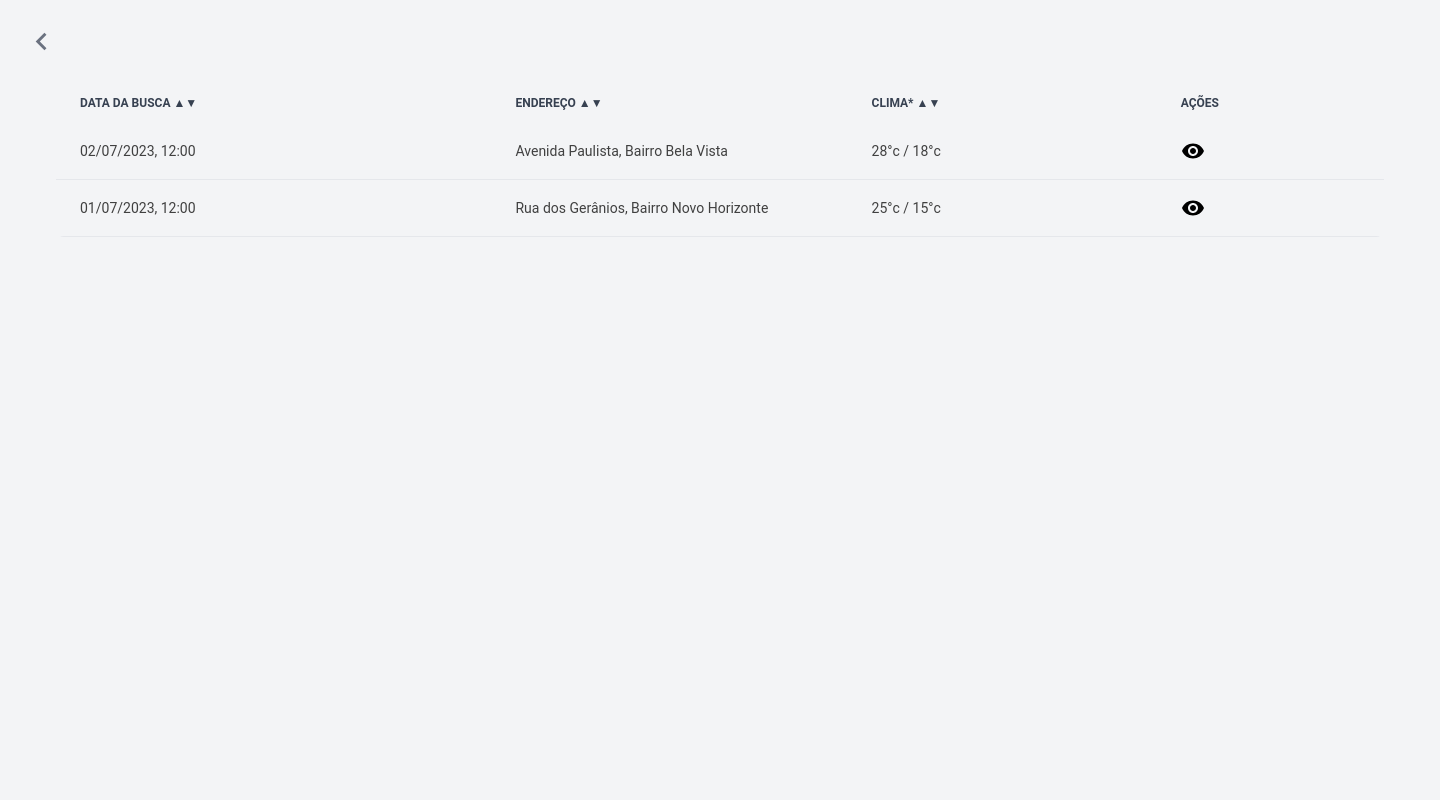
Test: Historic Page › should close modal when clicking close button
Click the button named "View" in the row of "02/07/2023, 12:00" at (1193, 151), box [1181, 139, 1205, 163]
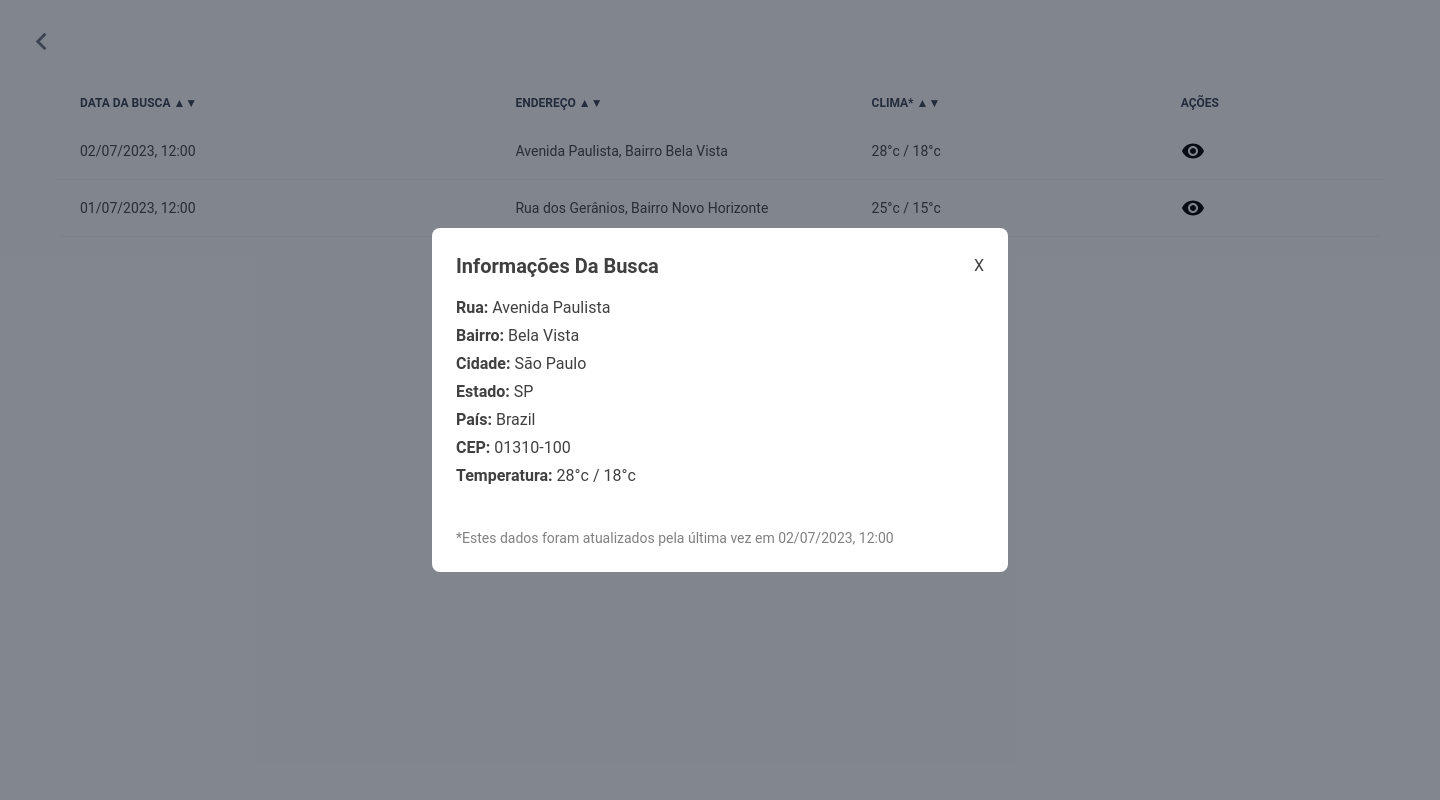
Expected: the heading "Informações Da Busca" is shown, [456, 252, 659, 280]
Click the button with id "close-modal-button" at (979, 266), box [974, 254, 984, 278]
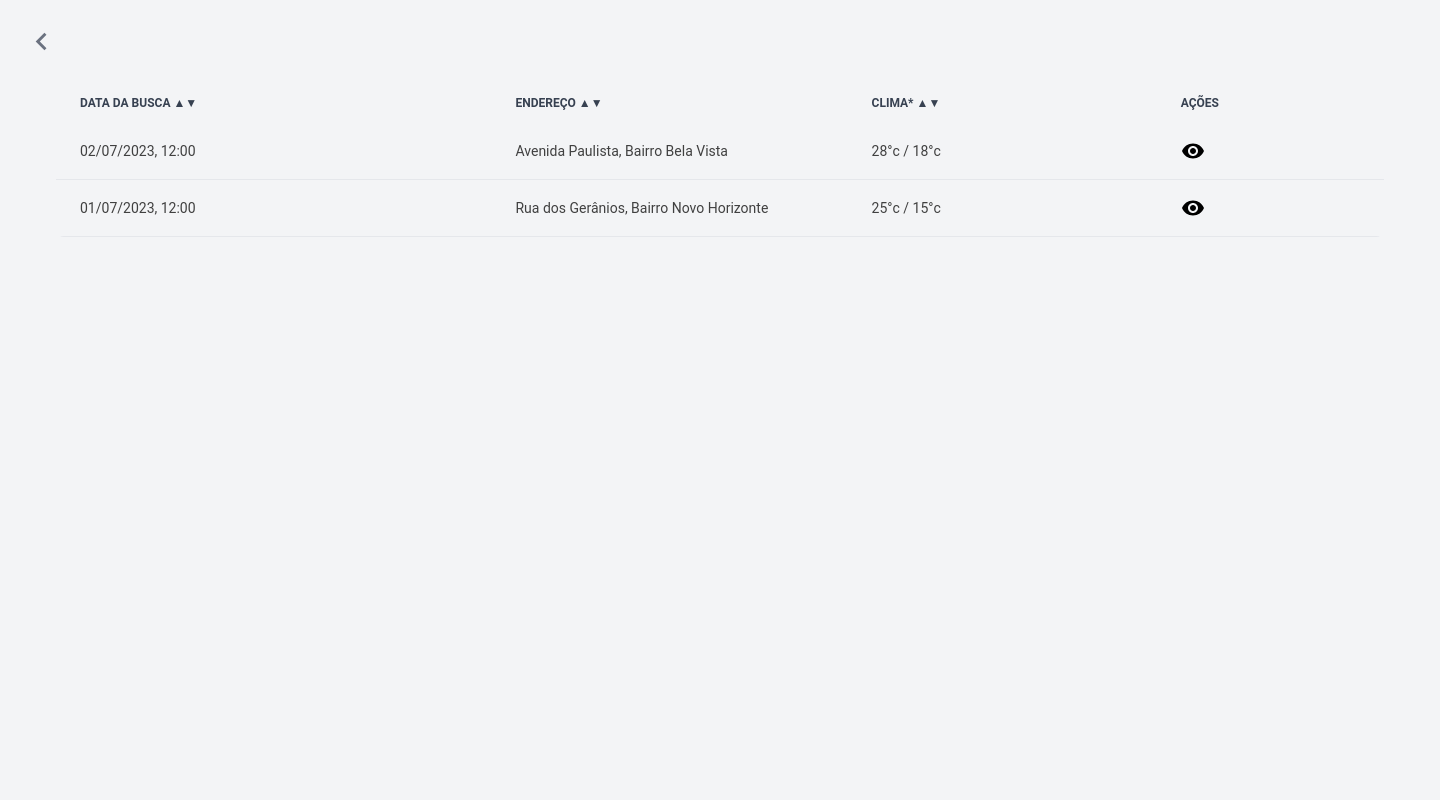
Expected: the heading "Informações Da Busca" is gone
